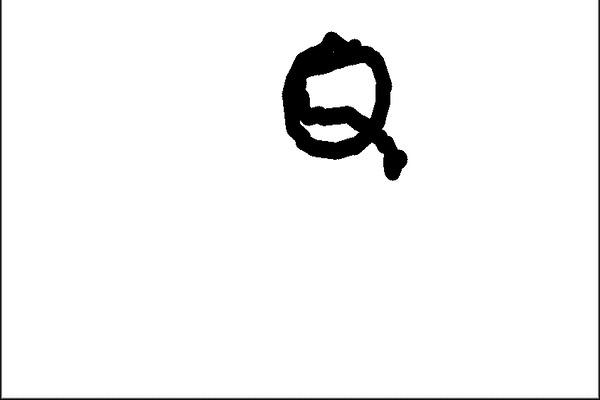Q: (270, 15, 407, 185)
